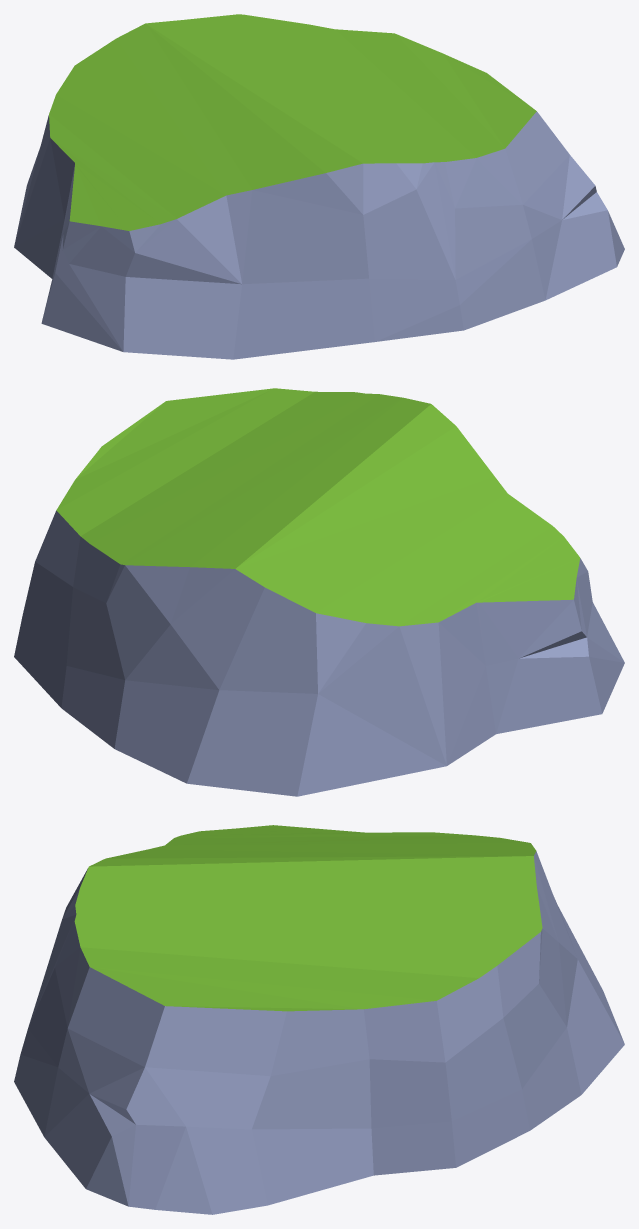
The model's file is Rock_21.fbx.
3 views of the same model, one above another, from view 1: azimuth 30°, elevation 25°; view 2: azimuth 150°, elevation 25°; view 3: azimuth 270°, elevation 25° (orthographic). The views are drawn at different scales.
Parts seen in each view (by area): view 1: Rock_21; view 2: Rock_21; view 3: Rock_21.
Boxes of the visible parts, box(x1,y1,x2,y2) form: Rock_21: box(14, 14, 624, 359); Rock_21: box(14, 388, 624, 796); Rock_21: box(14, 825, 624, 1214).
Size of the model in its own units: 10.06 by 3.08 by 8.94.
